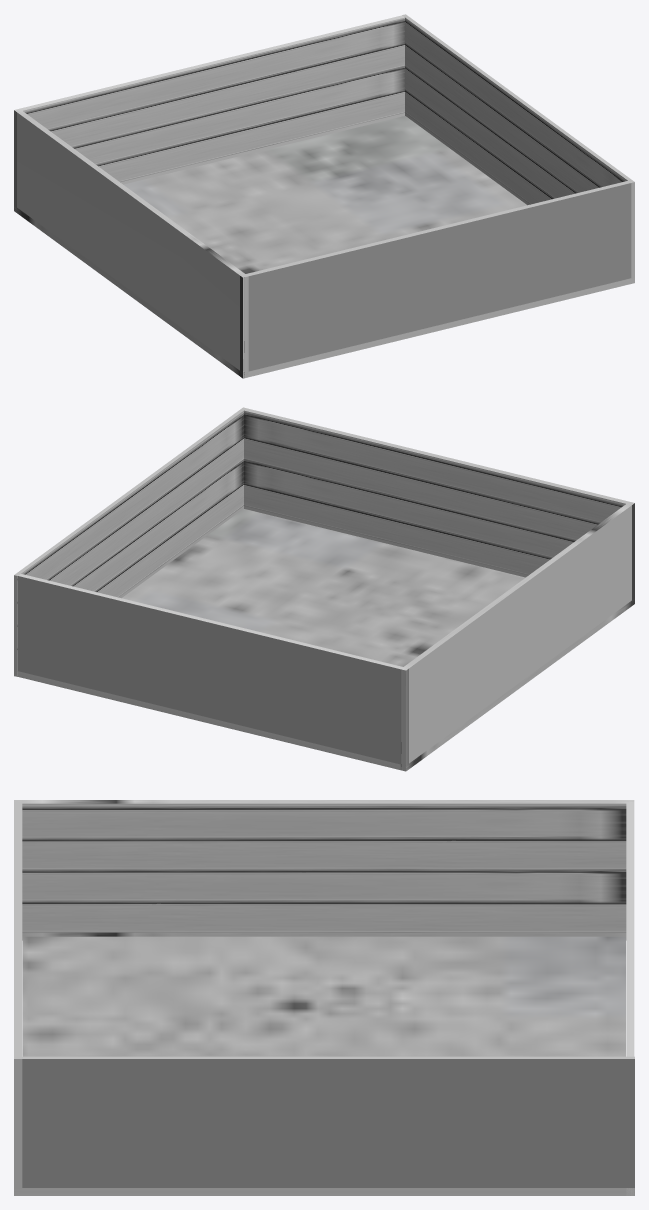
Rendered from Arena2.fbx.
The picture shows the model from 3 angles, top to bottom: view 1: azimuth 30°, elevation 25°; view 2: azimuth 150°, elevation 25°; view 3: azimuth 270°, elevation 25°; orthographic projection. The views are drawn at different scales.
Parts seen in each view (by area): view 1: Cube, Plane; view 2: Cube, Plane; view 3: Cube, Plane.
Boxes of the visible parts, left/top/right/bottom form: Cube: left=14, top=14, right=634, bottom=378; Plane: left=123, top=116, right=526, bottom=273; Cube: left=14, top=407, right=634, bottom=771; Plane: left=122, top=509, right=525, bottom=666; Cube: left=14, top=800, right=634, bottom=1195; Plane: left=22, top=936, right=625, bottom=1056.
Bounding box in the file's own units: 14228 × 3504 × 14412.
2 materials, 2 textured.
